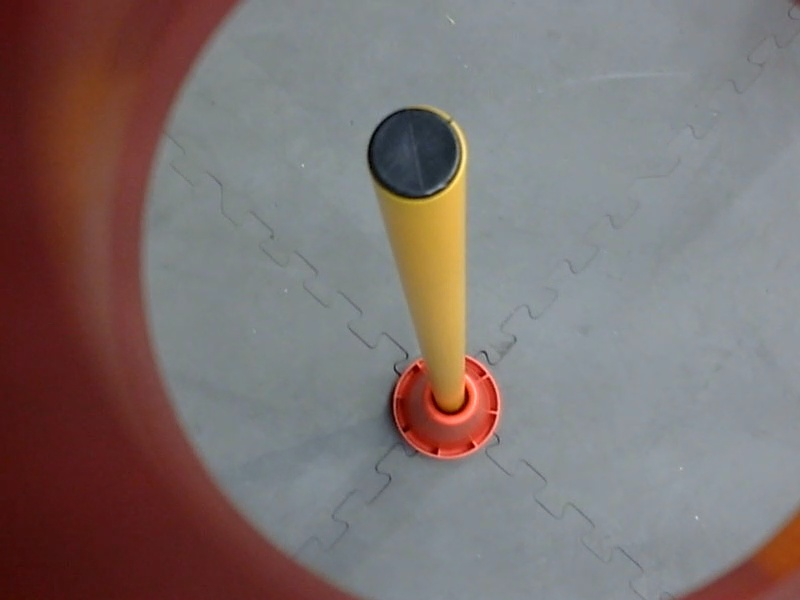tip: (358, 95, 470, 210)
